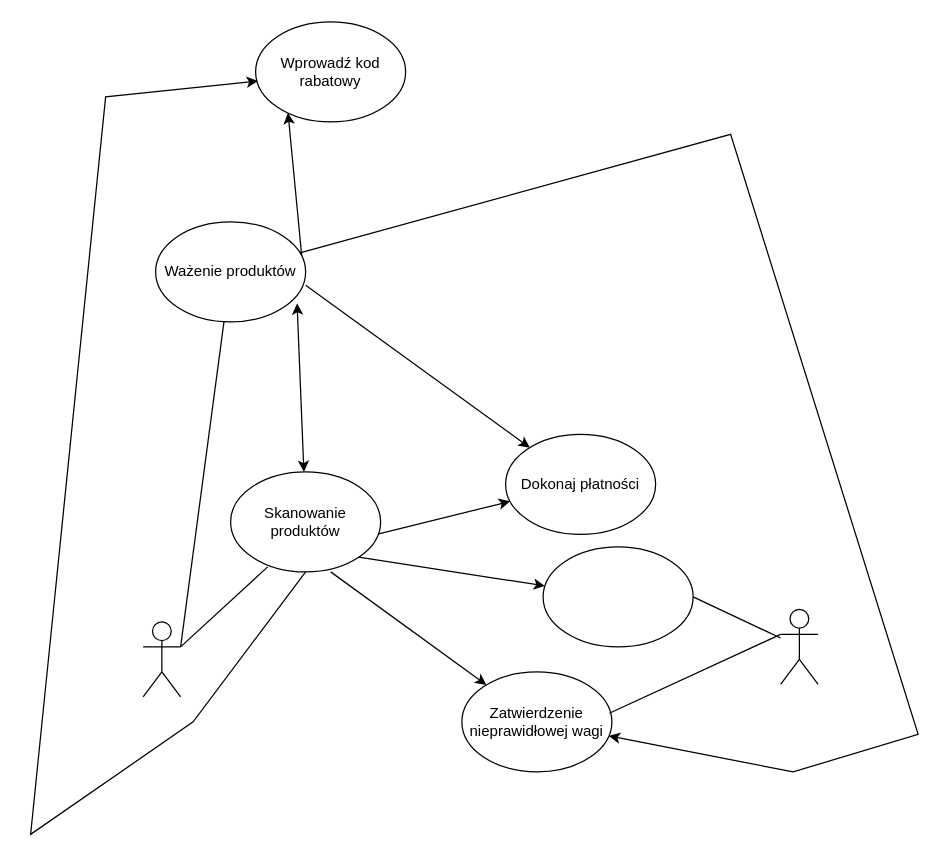
This 950x866 diagram has some shape labels left out. Each missing label, with the centre of its shape:
Klient: (x=161, y=659)
Pracownik: (x=798, y=646)
Zatwierdzenie wieku: (x=617, y=596)
